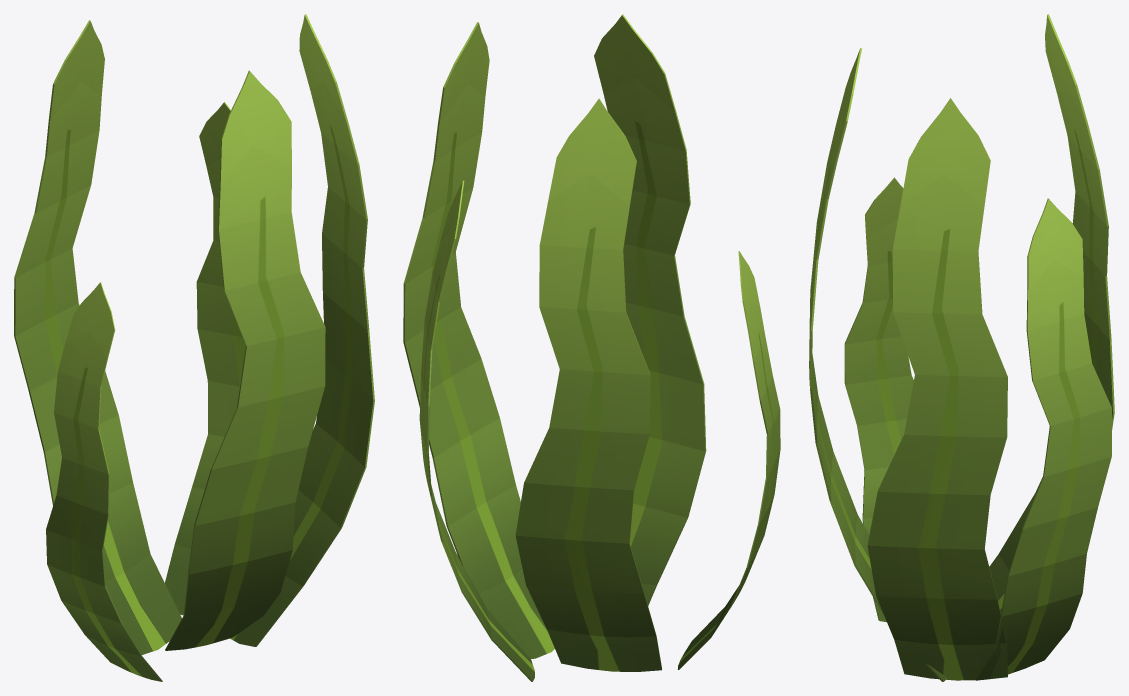
Rendered from Kelp.glb.
3 renders of one model, left to right at view 1: azimuth 30°, elevation 25°; view 2: azimuth 150°, elevation 25°; view 3: azimuth 270°, elevation 25°, orthographic. The views are drawn at different scales.
Visible parts, largest first — view 1: Plane.005; view 2: Plane.005; view 3: Plane.005.
Boxes of the visible parts, x1=… form: Plane.005: x1=14, y1=14, x2=374, y2=681; Plane.005: x1=403, y1=14, x2=780, y2=681; Plane.005: x1=809, y1=14, x2=1114, y2=681.
Size of the model in its own units: 1.95 by 3.57 by 1.6.
Materials: 1 (1 with a texture image).
